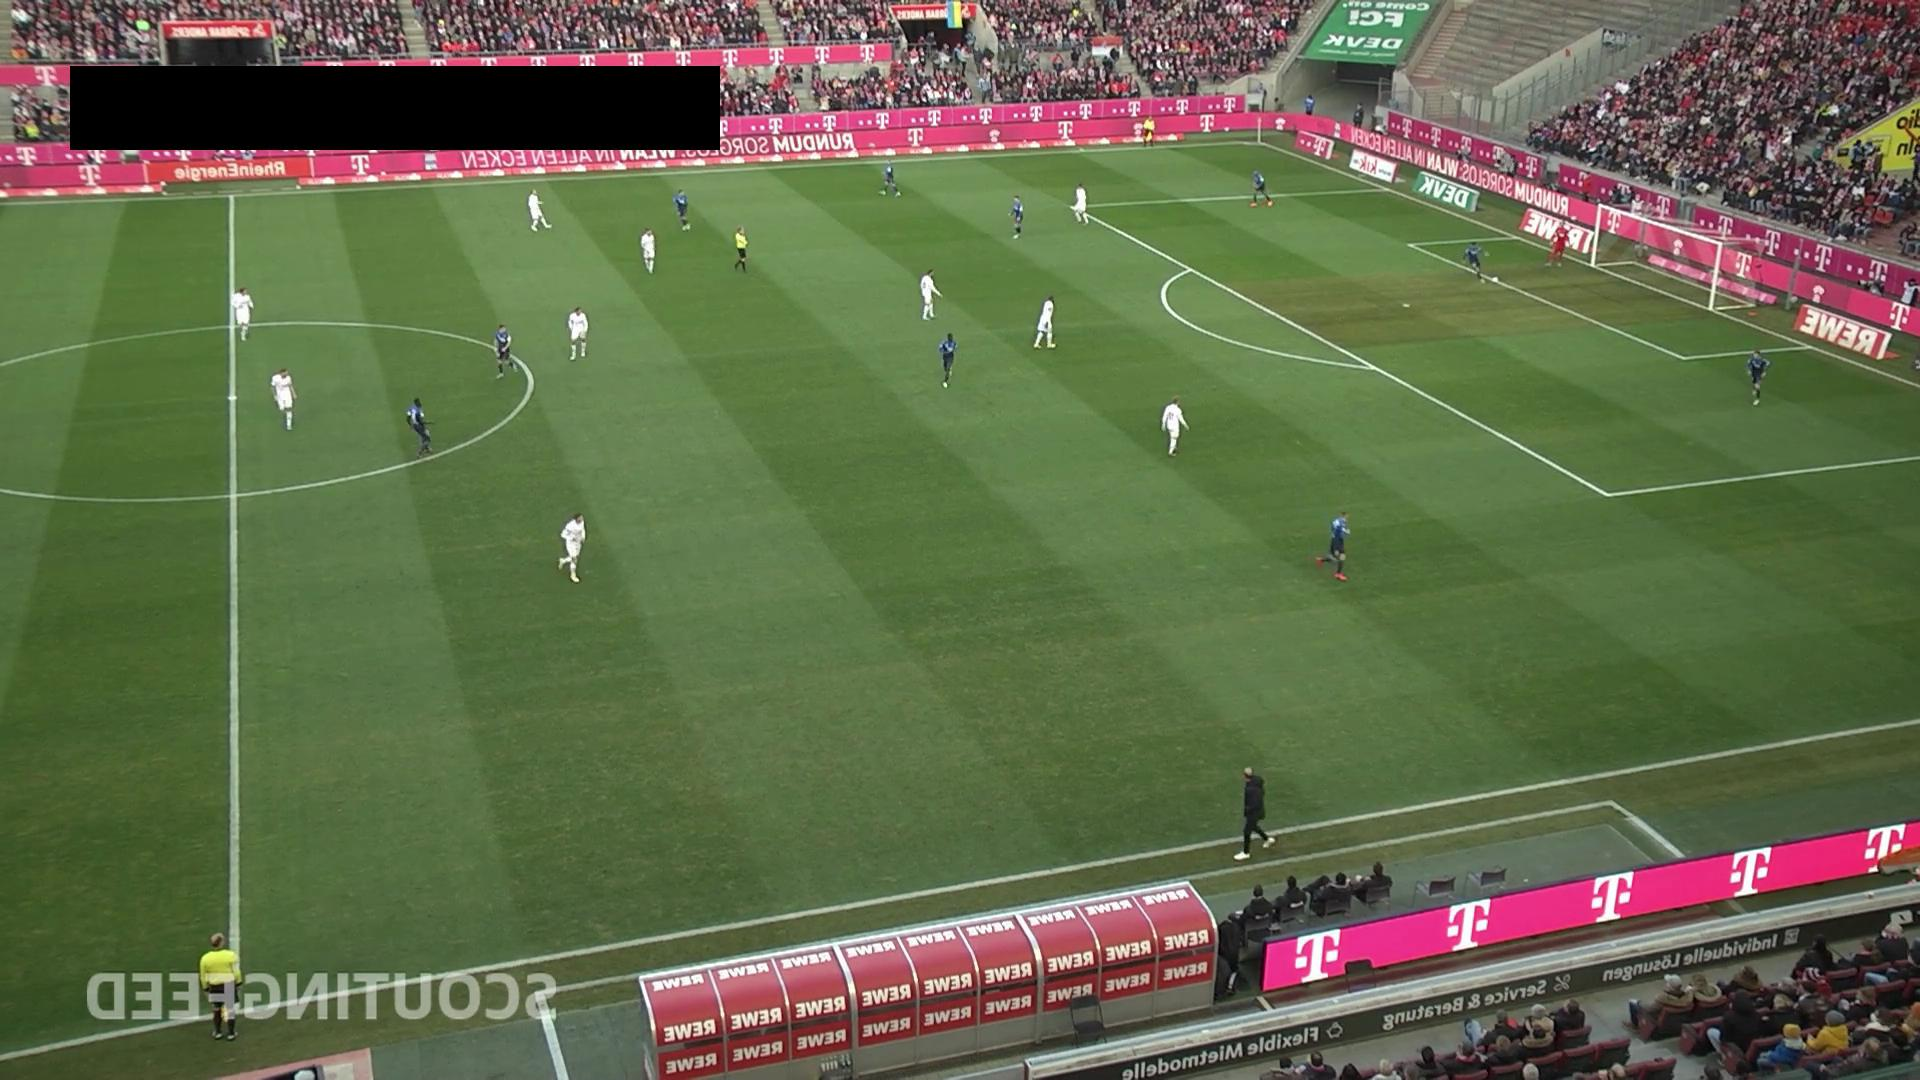ball: (1491, 274, 1500, 284)
goalkeeper: (1545, 225, 1569, 267)
player: (1316, 509, 1352, 581), (1158, 396, 1190, 459), (558, 512, 586, 583), (270, 366, 297, 431), (405, 396, 434, 456), (1744, 347, 1772, 406), (919, 267, 944, 320), (1033, 294, 1057, 348), (232, 285, 255, 341), (492, 322, 514, 379), (1462, 241, 1489, 286), (567, 305, 589, 360), (938, 332, 958, 388), (527, 189, 553, 232), (1249, 169, 1273, 207), (1071, 181, 1089, 225), (640, 227, 656, 274), (1008, 193, 1024, 238), (880, 163, 901, 197), (673, 188, 690, 230)
referee: (198, 932, 243, 1041), (733, 225, 748, 274), (1142, 113, 1156, 149)
